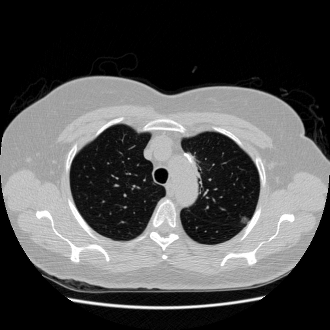nodule: (240, 216, 248, 224)
